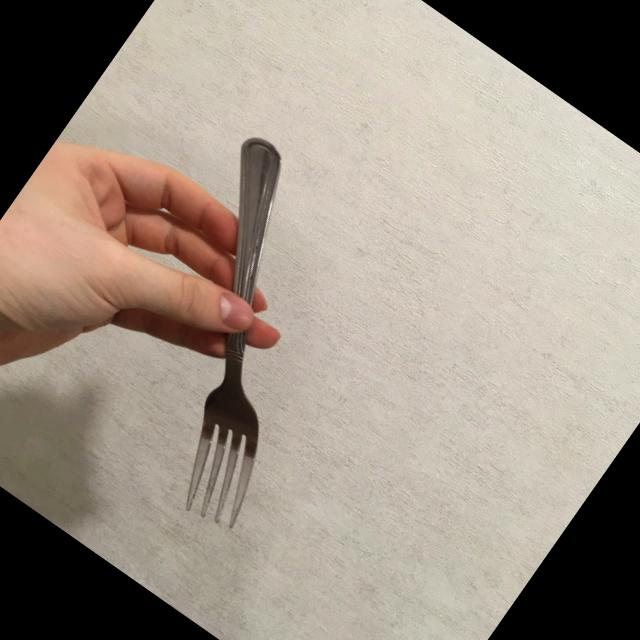fork: (48, 127, 424, 537)
